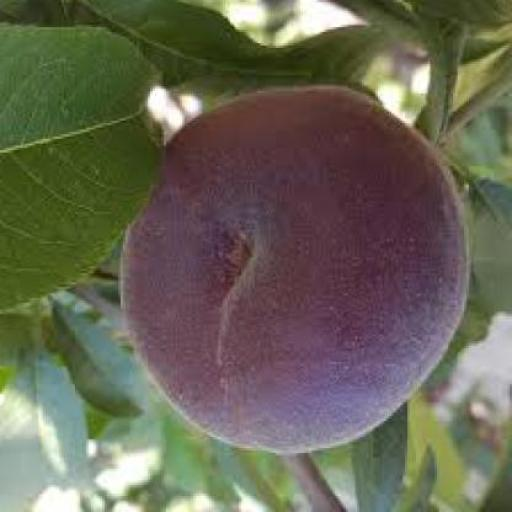biodegradable: (126, 87, 475, 462), (2, 27, 164, 308), (2, 2, 408, 103)
